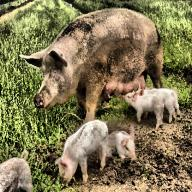boar: (20, 8, 181, 186), (0, 149, 33, 191)
